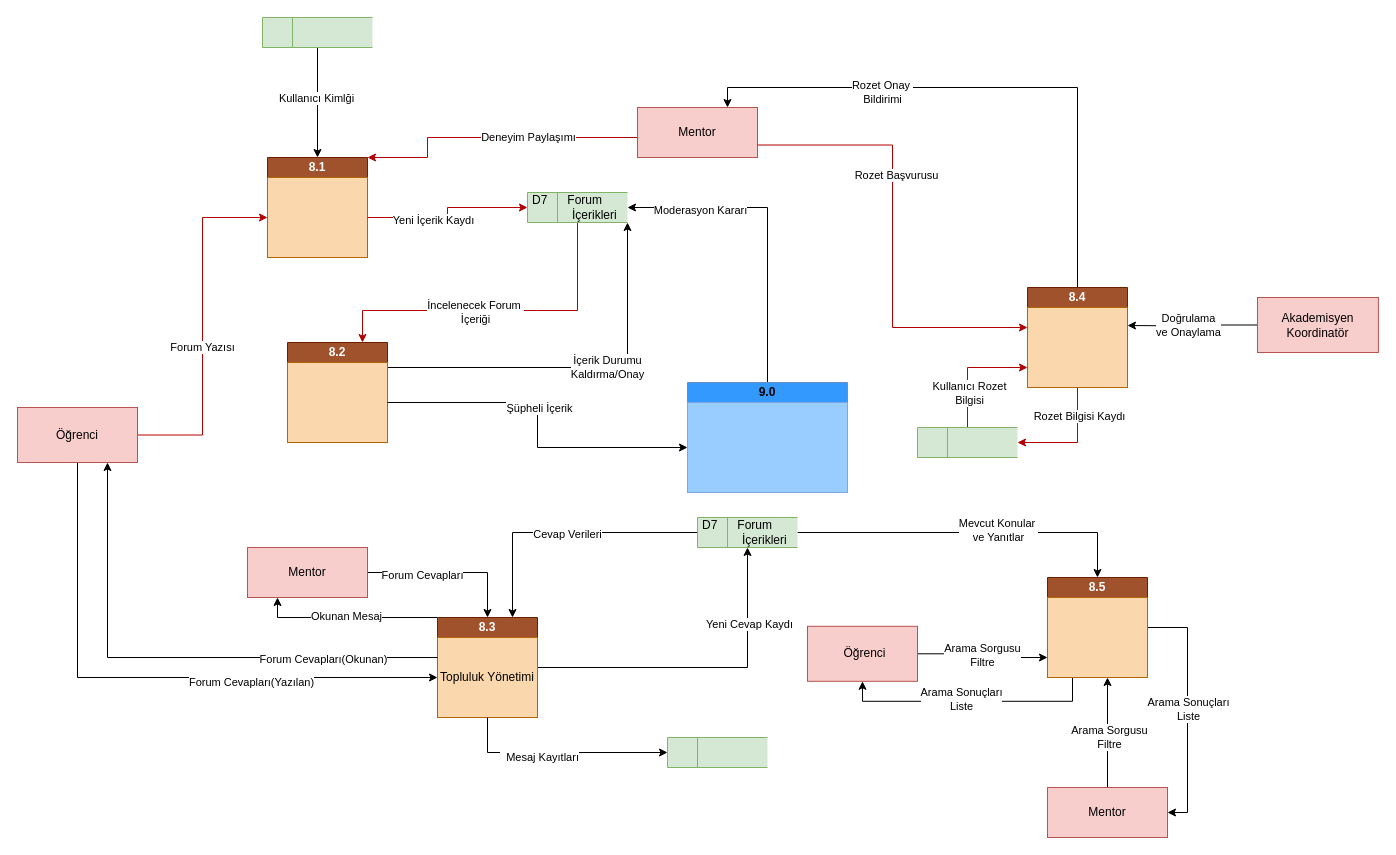
This 1396x855 diagram has some shape labels left out. The centre of each missing label's shape, as x and y in pixels:
"D1 Kullanıcılar" belongs at pixel 317 32.
"D2 Profiller" belongs at pixel 967 442.
"D8 Mesajlar" belongs at pixel 717 752.
"Forum Arama ve Listeleme" belongs at pixel 1097 637.
"Forum İçerik Moderasyonu" belongs at pixel 337 402.
"Forum Yazısı Oluşturma" belongs at pixel 317 217.
"Rozet ve Ödül Yönetimi" belongs at pixel 1077 347.
"Yönetim, Moderasyon ve Raporlama" belongs at pixel 767 447.
